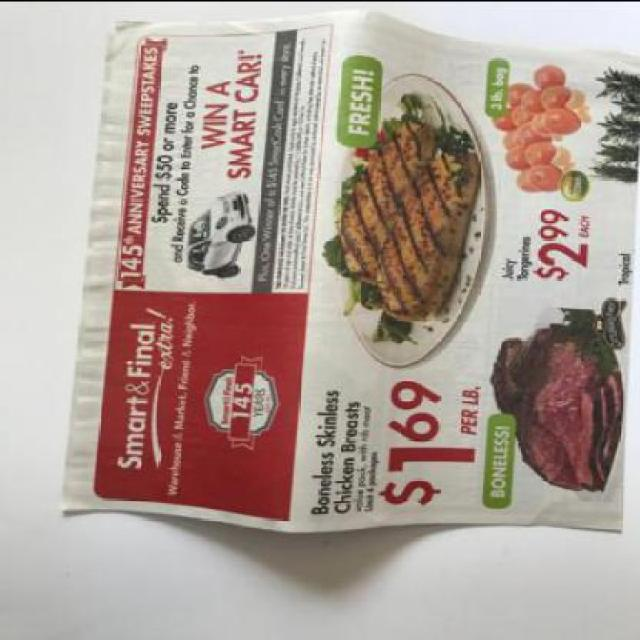PAPER: (60, 6, 638, 529)
